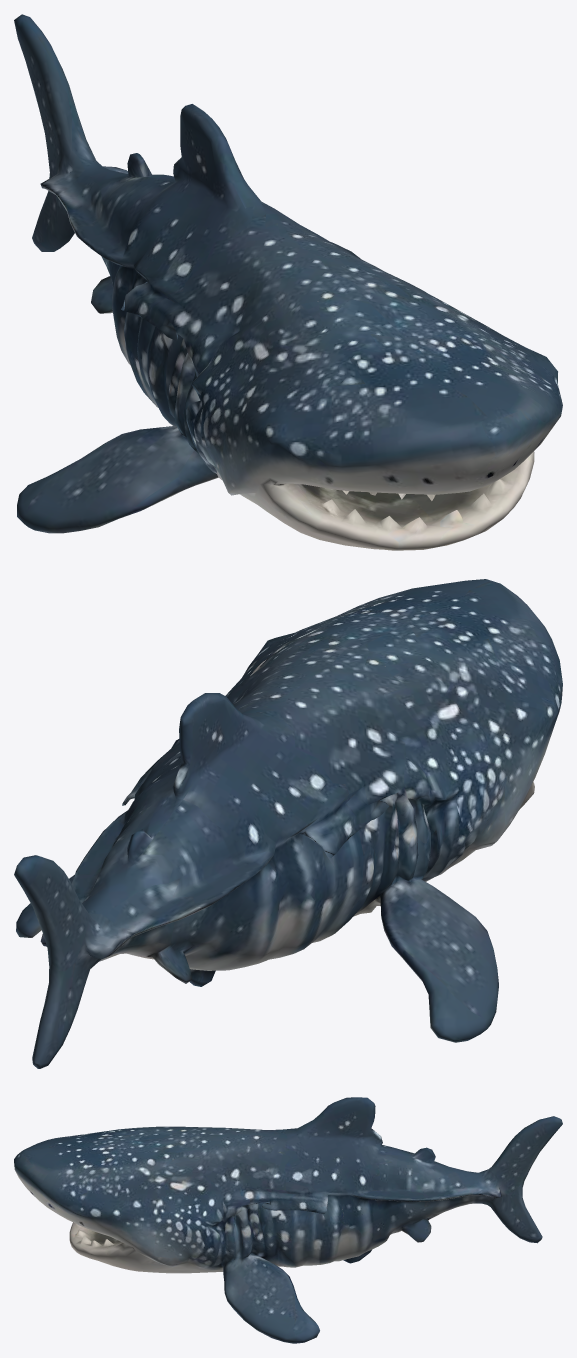
File: whaleshark.glb
3 views of the same model, one above another, from view 1: azimuth 30°, elevation 25°; view 2: azimuth 150°, elevation 25°; view 3: azimuth 270°, elevation 25° (orthographic). The views are drawn at different scales.
Parts seen in each view (by area): view 1: tripo_node_5ff4d69e-3cac-4dad-862e-f99aa06e2805; view 2: tripo_node_5ff4d69e-3cac-4dad-862e-f99aa06e2805; view 3: tripo_node_5ff4d69e-3cac-4dad-862e-f99aa06e2805.
Boxes of the visible parts, box(x1,y1,x2,y2) form: tripo_node_5ff4d69e-3cac-4dad-862e-f99aa06e2805: box(14, 14, 562, 550); tripo_node_5ff4d69e-3cac-4dad-862e-f99aa06e2805: box(14, 579, 562, 1068); tripo_node_5ff4d69e-3cac-4dad-862e-f99aa06e2805: box(14, 1097, 562, 1343).
Size of the model in its own units: 0.5547 by 0.37 by 0.9995.
Materials: 1 (1 with a texture image).
